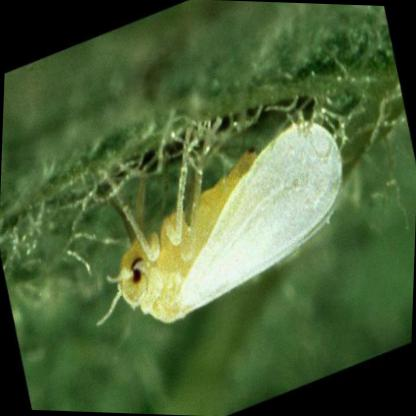whitefly: (116, 117, 343, 323)
